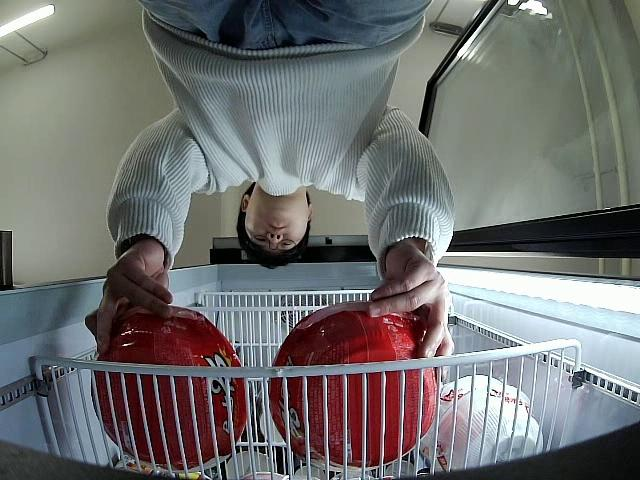00_hand: (85, 254, 174, 350), (369, 259, 455, 358)
10_wangTtukkeong: (269, 301, 439, 471), (91, 305, 248, 471)
